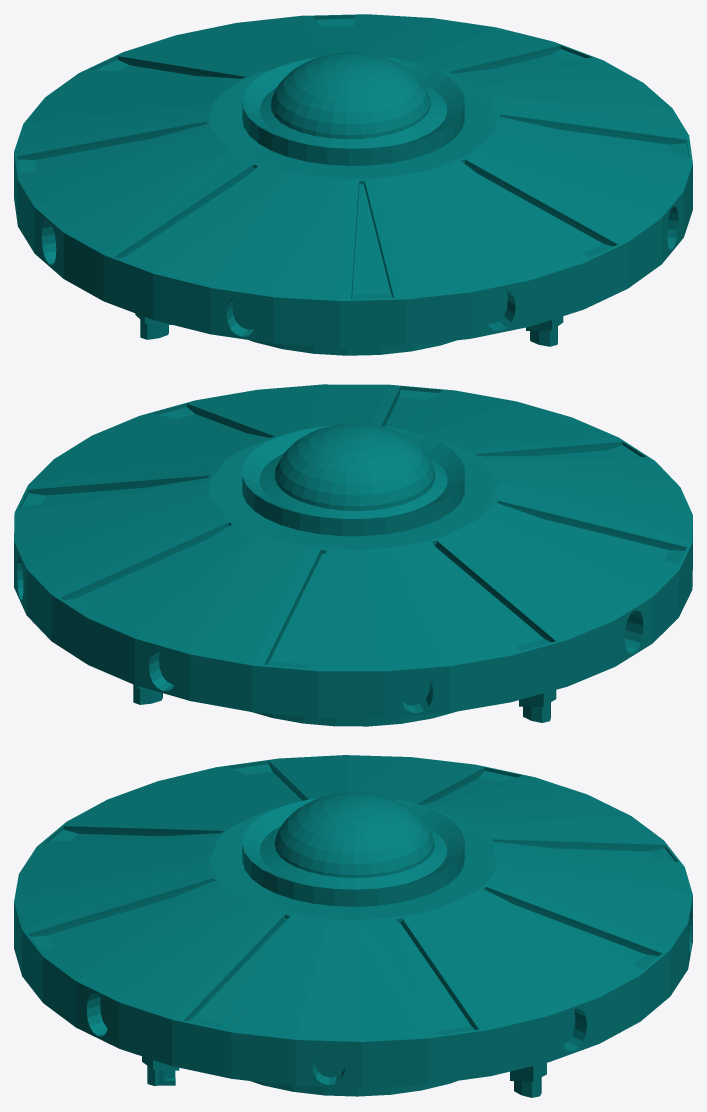
Rendered from UFO.gltf.
3 views of the same model, one above another, from view 1: azimuth 30°, elevation 25°; view 2: azimuth 150°, elevation 25°; view 3: azimuth 270°, elevation 25° (orthographic).
Visible parts, largest first — view 1: ufo; view 2: ufo; view 3: ufo.
Part boxes in pixels (x1,y1,x2,y2): ufo: [14, 14, 692, 355]; ufo: [14, 384, 692, 726]; ufo: [14, 755, 692, 1097].
Bounding box in the file's own units: 55.97 × 20.99 × 55.97.
